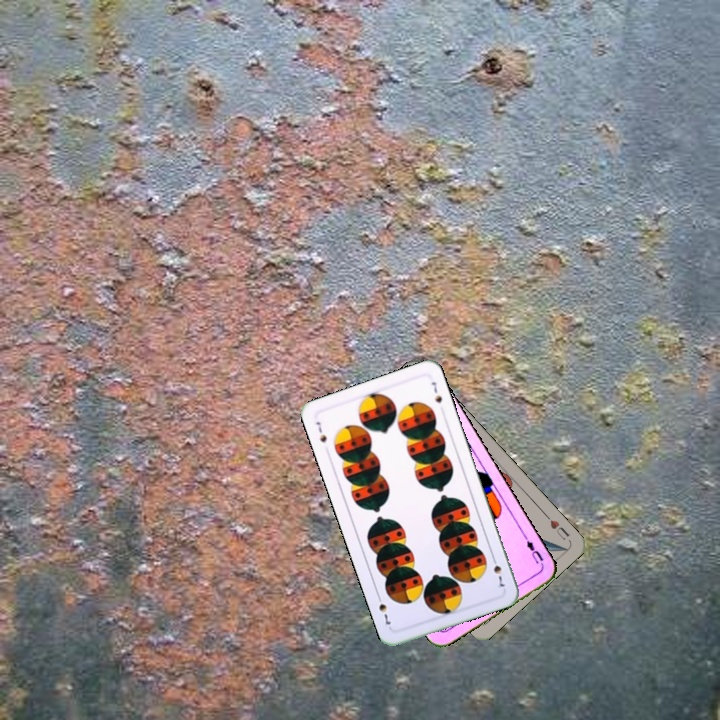EU: (520, 532, 546, 569)
HU: (541, 511, 572, 543)
S7: (488, 552, 507, 590), (312, 417, 329, 445)
